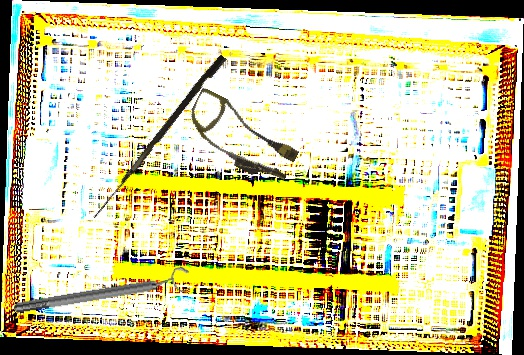Cannula: (177, 86, 306, 190)
Fixation Ring: (11, 265, 193, 321)
Hook Surgical: (93, 52, 227, 224)
